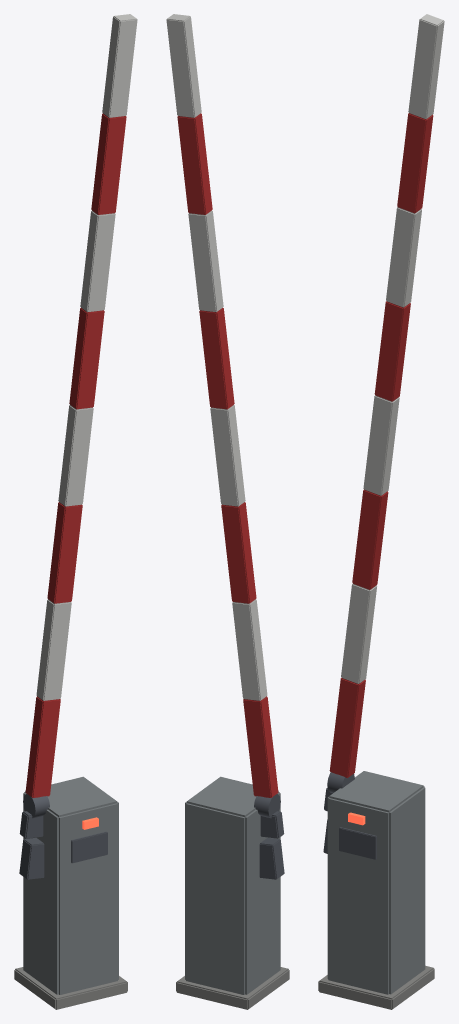
File: barrier_gate.glb
3 renders of one model, left to right at view 1: azimuth 30°, elevation 25°; view 2: azimuth 150°, elevation 25°; view 3: azimuth 330°, elevation 25°, orthographic. The views are drawn at different scales.
Parts seen in each view (by area): view 1: arm_mesh, post_mesh; view 2: arm_mesh, post_mesh; view 3: post_mesh, arm_mesh.
Boxes of the visible parts, x1=… form: arm_mesh: x1=19, y1=14, x2=137, y2=879; post_mesh: x1=14, y1=776, x2=127, y2=1009; arm_mesh: x1=166, y1=14, x2=284, y2=879; post_mesh: x1=176, y1=776, x2=289, y2=1009; post_mesh: x1=318, y1=771, x2=434, y2=1009; arm_mesh: x1=323, y1=14, x2=444, y2=853.
Size of what is drawn, in the model's own units: 0.6154 by 5.03 by 0.4.
